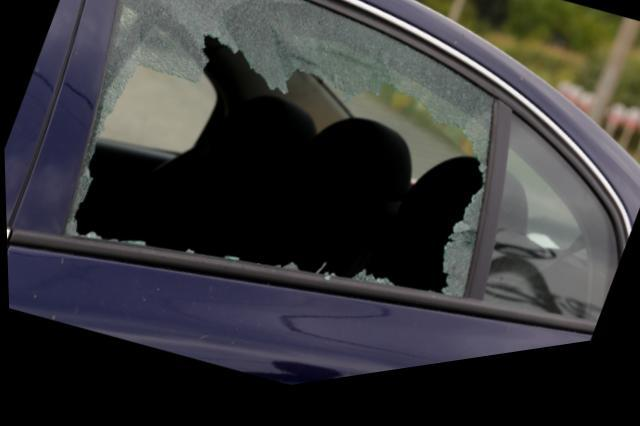glass shatter: (61, 0, 492, 312)
